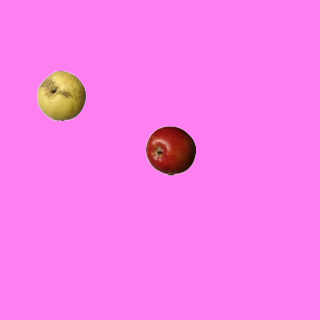Apple Braeburn: (145, 125, 195, 175)
Apple Golden 1: (36, 70, 86, 120)
